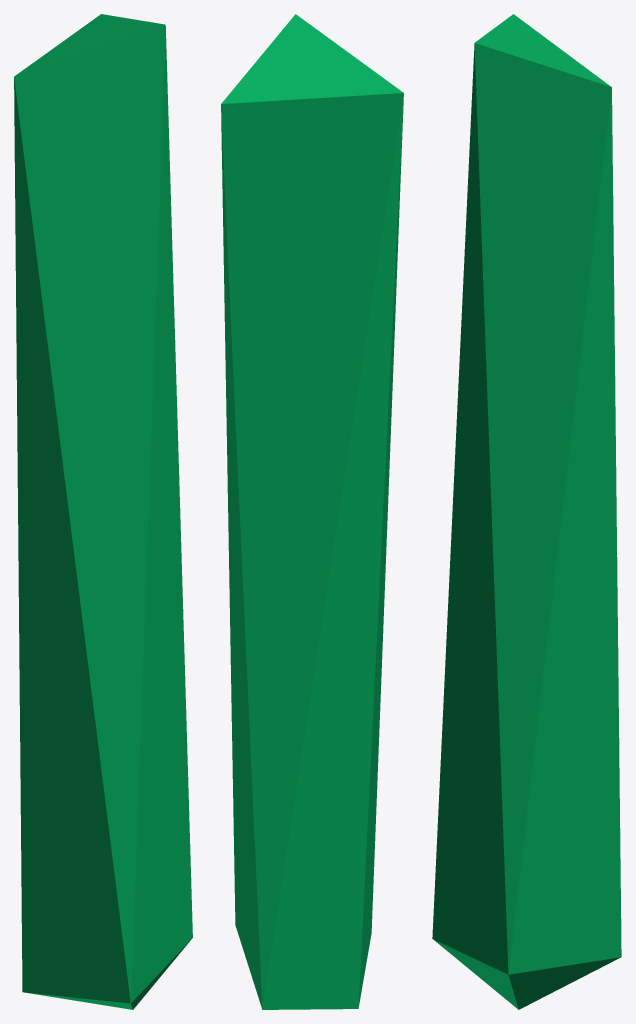
Rendered from SeguaroCactusMedium2_LOD3.fbx.
3 renders of one model, left to right at view 1: azimuth 30°, elevation 25°; view 2: azimuth 150°, elevation 25°; view 3: azimuth 270°, elevation 25°, orthographic. The views are drawn at different scales.
Parts seen in each view (by area): view 1: SeguaroCactusMedium2_LOD3; view 2: SeguaroCactusMedium2_LOD3; view 3: SeguaroCactusMedium2_LOD3.
Part boxes in pixels (box(x1,y1,x2,y2)): SeguaroCactusMedium2_LOD3: box(14, 14, 192, 1009); SeguaroCactusMedium2_LOD3: box(221, 14, 403, 1009); SeguaroCactusMedium2_LOD3: box(432, 14, 621, 1009).
Bounding box in the file's own units: 51.39 × 291 × 53.76.
